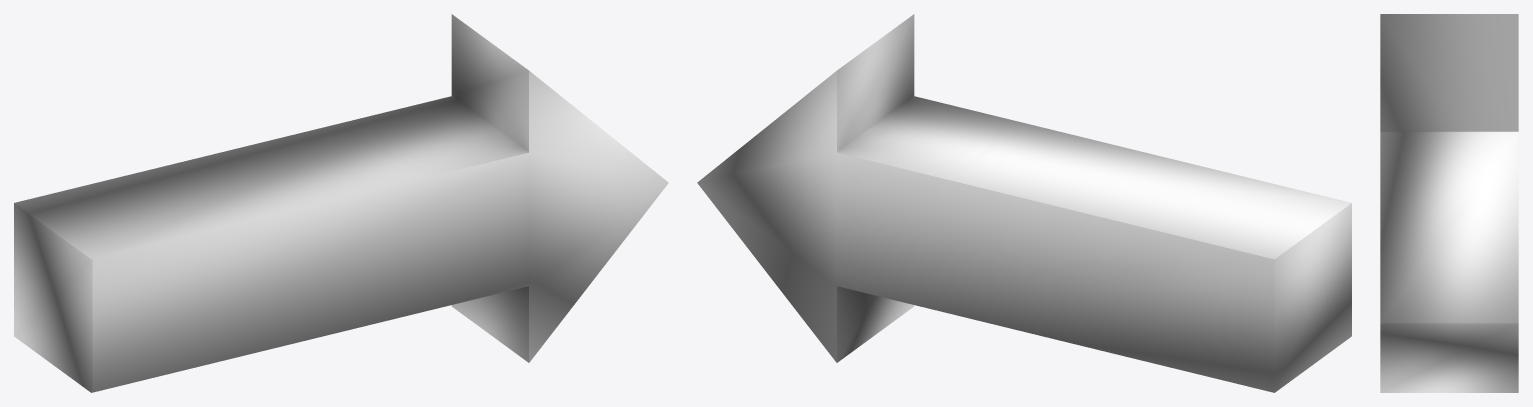
The model's file is Arrow18.fbx.
3 views of the same model, side by side, from view 1: azimuth 30°, elevation 25°; view 2: azimuth 150°, elevation 25°; view 3: azimuth 270°, elevation 25° (orthographic). The views are drawn at different scales.
Visible parts, largest first — view 1: Arrow18; view 2: Arrow18; view 3: Arrow18.
Part boxes in pixels (box(x1,y1,x2,y2)): Arrow18: box(14, 14, 668, 392); Arrow18: box(697, 14, 1351, 392); Arrow18: box(1380, 14, 1518, 392).
Bounding box in the file's own units: 10.33 × 5 × 2.39.
